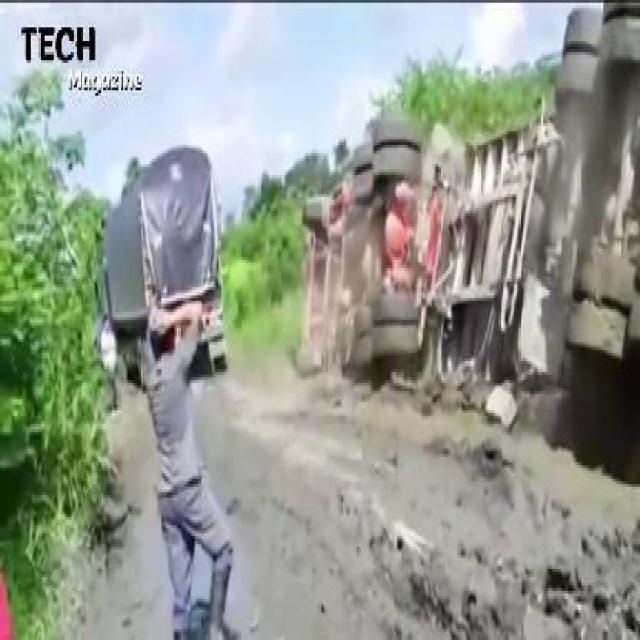accident: (284, 0, 638, 451)
